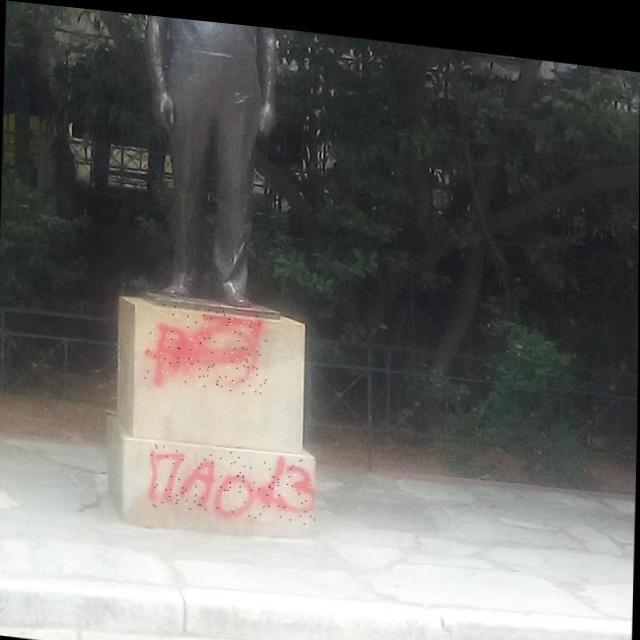-: (148, 437, 316, 520), (146, 298, 268, 393)
